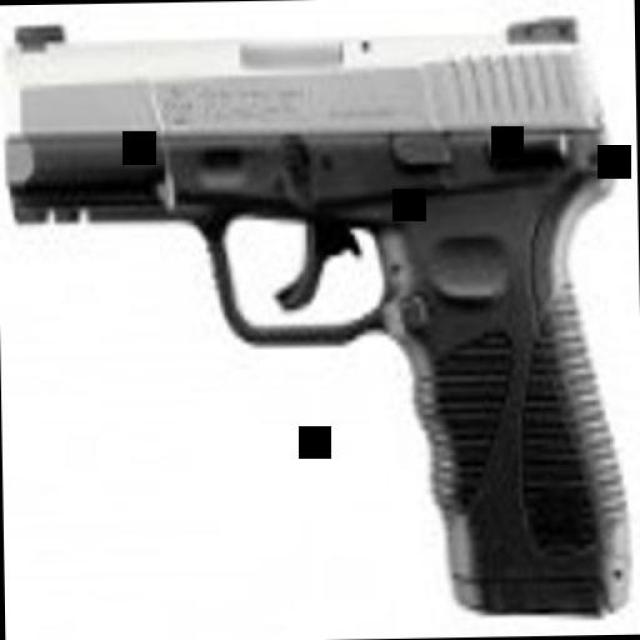gun: (1, 9, 631, 629)
